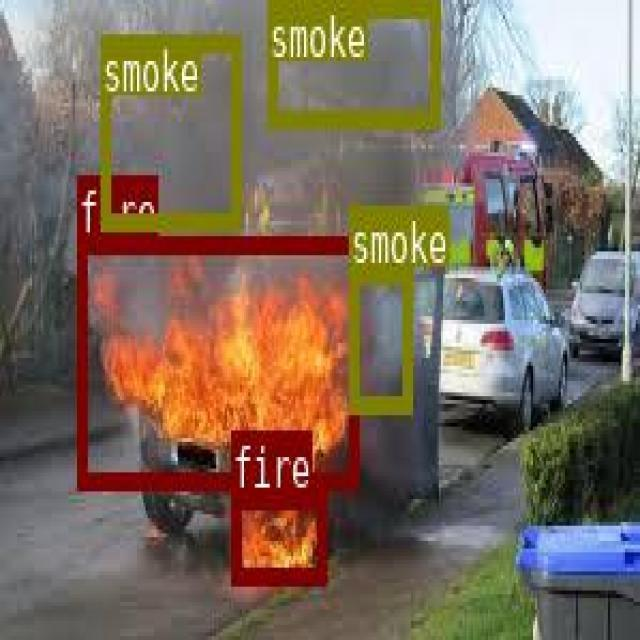fire: (76, 233, 358, 488), (230, 489, 325, 579)
smoke: (100, 32, 238, 226), (267, 0, 438, 122), (349, 264, 411, 409)
